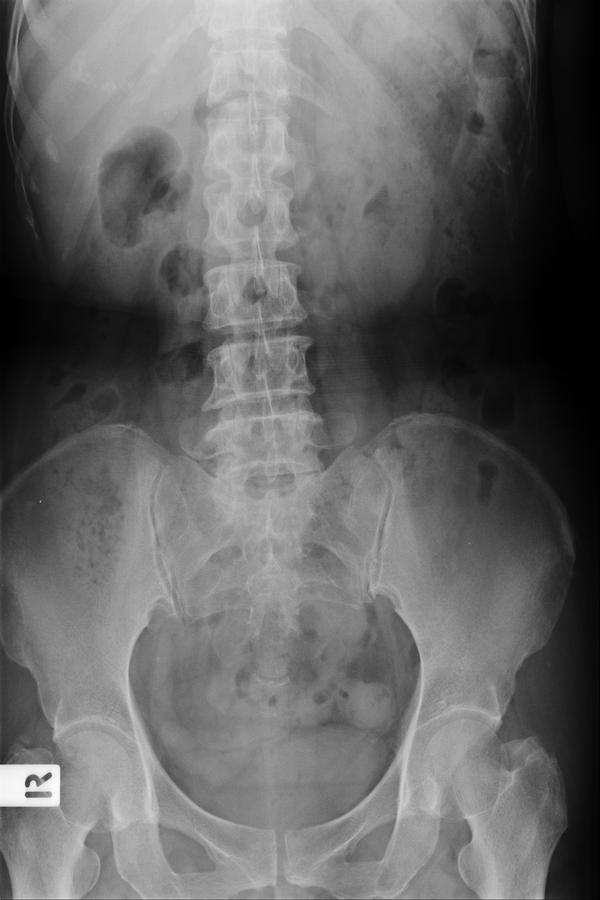lumbar scoliosis: (198, 128, 332, 555)
